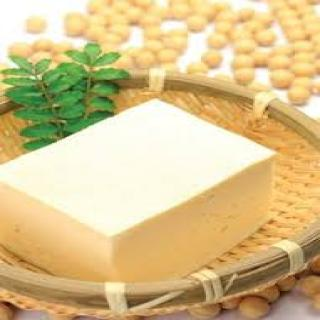Tahu: (4, 100, 289, 296)
